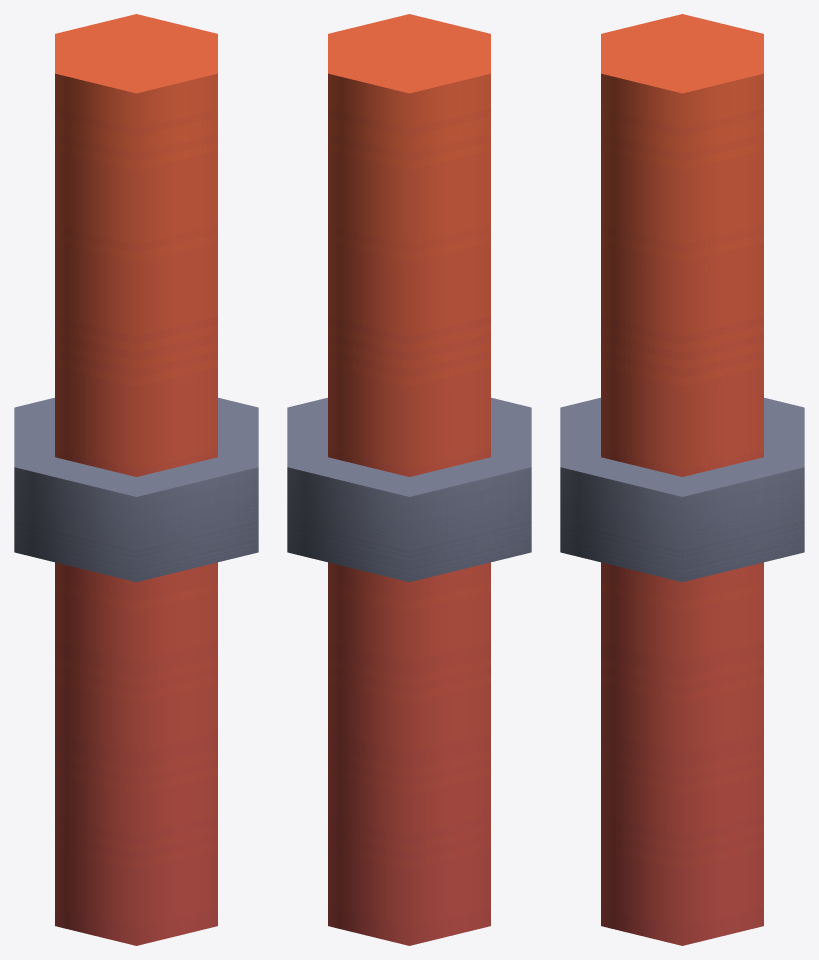
File: pipe-section.glb
The picture shows the model from 3 angles, left to right: view 1: azimuth 30°, elevation 25°; view 2: azimuth 150°, elevation 25°; view 3: azimuth 270°, elevation 25°; orthographic projection.
Parts seen in each view (by area): view 1: pipe-section; view 2: pipe-section; view 3: pipe-section.
Part boxes in pixels (bbox=[...]): pipe-section: bbox=[14, 14, 258, 945]; pipe-section: bbox=[287, 14, 531, 945]; pipe-section: bbox=[560, 14, 804, 945].
Size of the model in its own units: 0.3 by 1 by 0.2598.
Materials: 1 (1 with a texture image).
